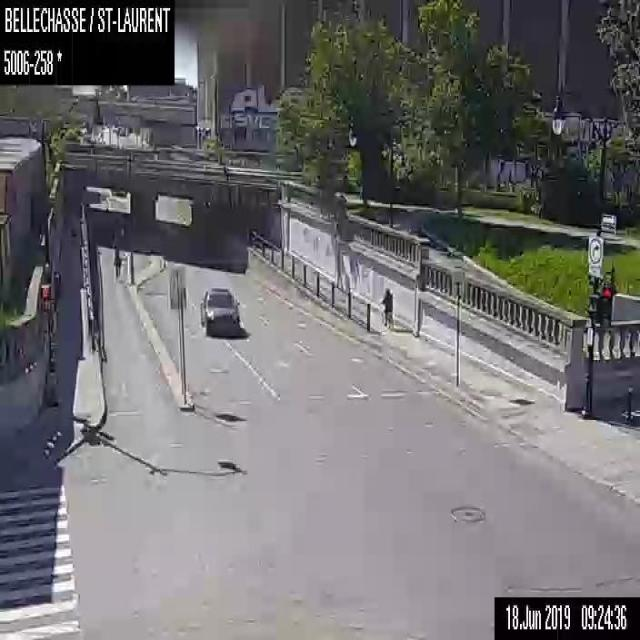cyclist: (378, 287, 394, 329)
pedestrian: (112, 247, 121, 276)
vehicle: (199, 286, 240, 338)
